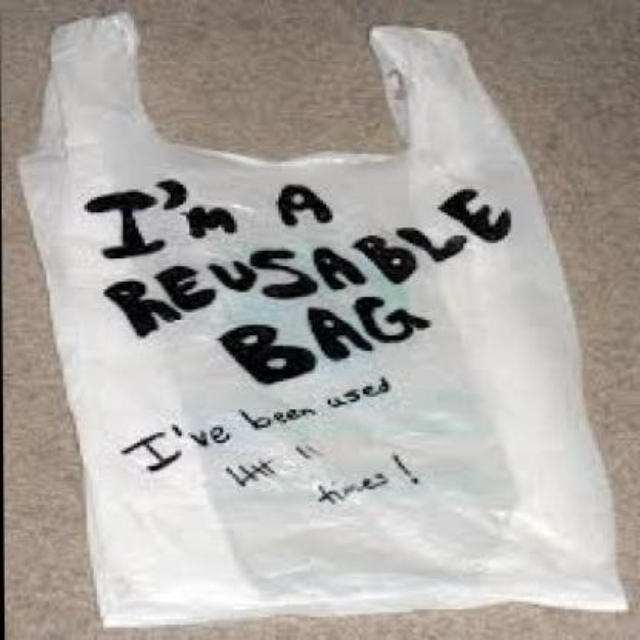trash: (20, 14, 625, 625)
